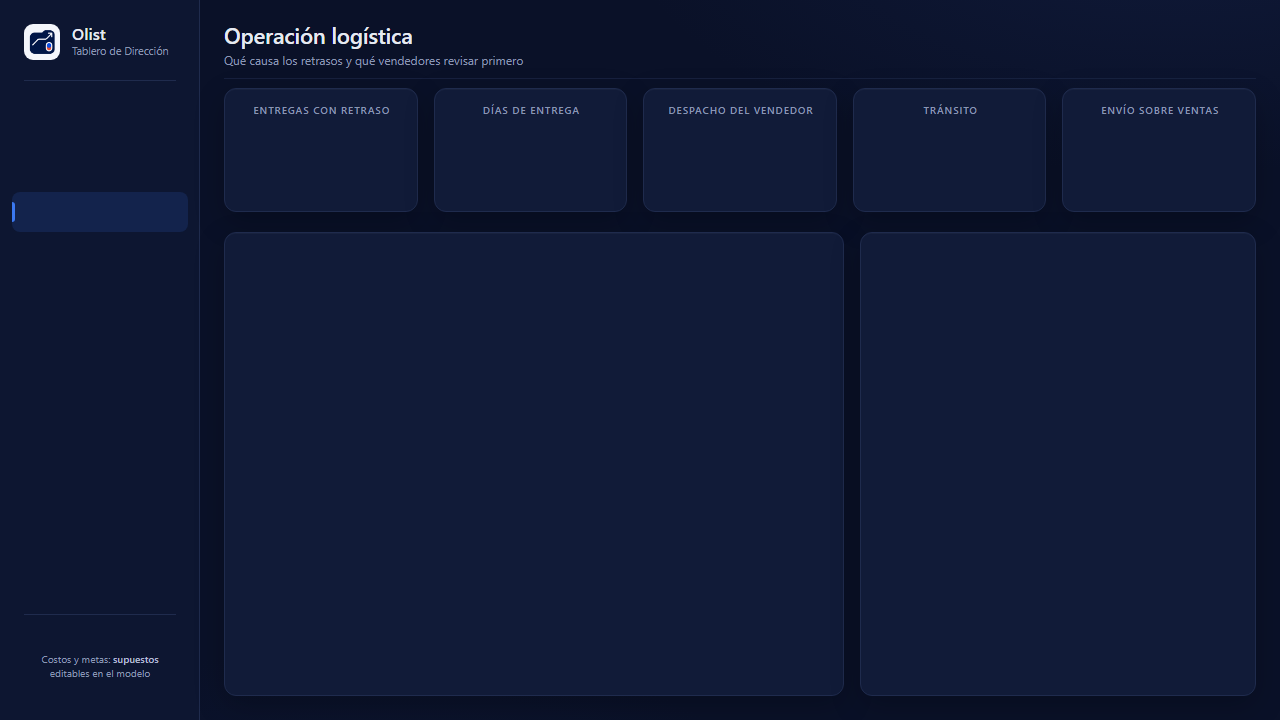

Layout of this report page (visuals, bound fields, positions):
{"tool":"powerbi","page":{"name":"✅ 3. Análisis de Logística","canvas":[1280,720],"ordinal":2},"visuals":[{"type":"lineChart","title":"Efectividad de Entregas","fields":{"Category":["df_nuevas_columnas.Año-Mes"],"Y":["df_nuevas_columnas.Tiempo Estimado Entrega","df_nuevas_columnas.Tiempo Promedio Entrega"]},"box":[51.3,397.8,620.8,291.9],"z":1000},{"type":"pieChart","title":"Tipo de Envío Según Costo","fields":{"Category":["df_nuevas_columnas.Costo_Envio_Categoria"],"Y":["df_nuevas_columnas.Pedidos_por_Categoria_Costo"]},"box":[684.3,35.7,558.6,267.1],"z":6000},{"type":"textbox","box":[51.1,10.5,588.9,87.1],"z":7000},{"type":"image","box":[1150,10,120,88.3],"z":8000},{"type":"card","title":"% Pedidos con Retraso","fields":{"Values":["df_nuevas_columnas.% Pedidos con Retraso"]},"box":[51.7,141.7,228.3,105],"z":9000},{"type":"card","title":"Costo Promedio Envío","fields":{"Values":["df_nuevas_columnas.Costo Promedio Envío"]},"box":[305,141.7,228.3,105],"z":10000},{"type":"card","title":"Tiempo Medio Entrega","fields":{"Values":["df_nuevas_columnas.Tiempo Promedio Entrega"]},"box":[177.1,265.7,227.1,105.7],"z":11000},{"type":"map","title":"Porcentaje de Pedidos por Estado","fields":{"Category":["df_nuevas_columnas.Estado Completo"],"Series":["df_nuevas_columnas.Region"],"Size":["df_nuevas_columnas.Order_Count_Pct"]},"box":[685,316.7,558.3,373.3],"z":12000}]}

Visuals, with their boxes on the page's 1280x720 design canvas (x1, y1, x2, y2). These are canvas units, not pixel positions in the 1280x720 screenshot, which may show the page scaled, cropped or inside an application window:
"Efectividad de Entregas" lineChart: 51 398 672 690
"Tipo de Envío Según Costo" pieChart: 684 36 1243 303
textbox: 51 10 640 98
image: 1150 10 1270 98
"% Pedidos con Retraso" card: 52 142 280 247
"Costo Promedio Envío" card: 305 142 533 247
"Tiempo Medio Entrega" card: 177 266 404 371
"Porcentaje de Pedidos por Estado" map: 685 317 1243 690
